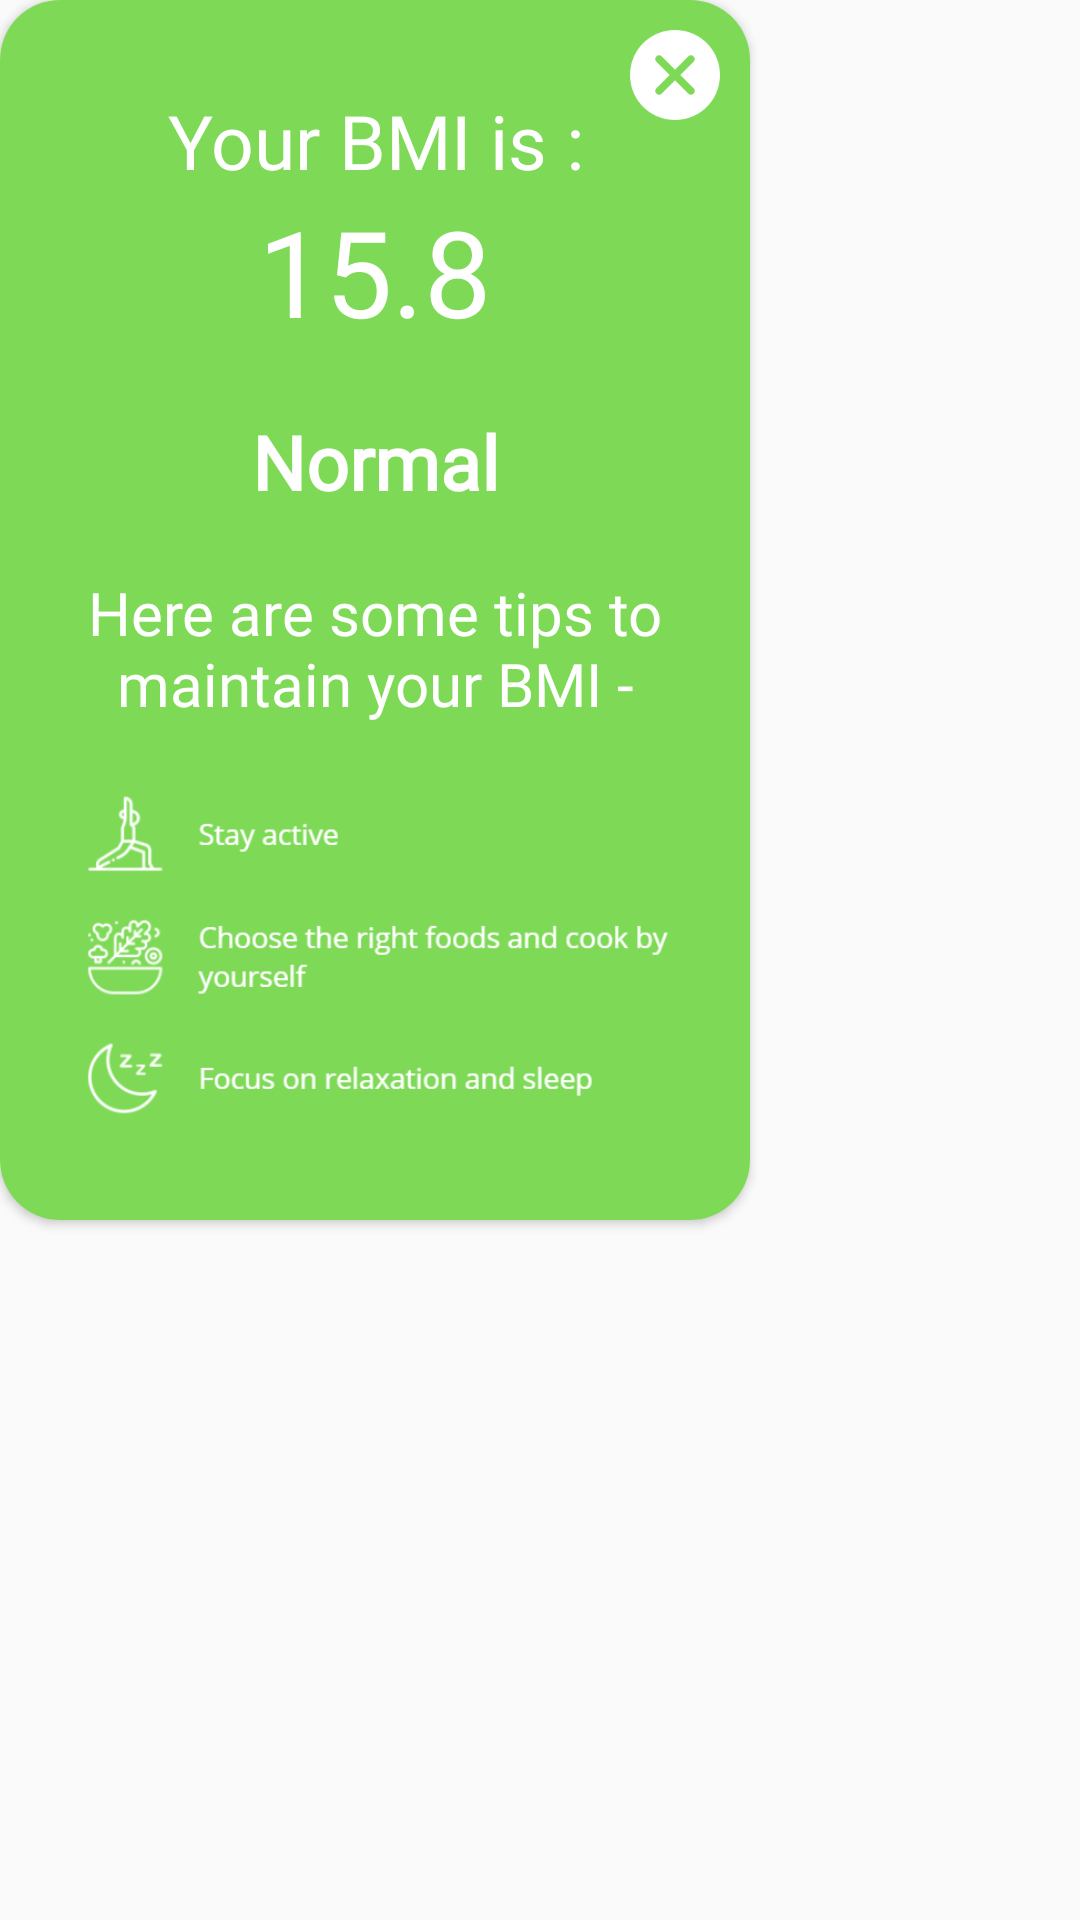

Icon bounding boxes for this 1080w x 1920h phone screenshot, format (x1, y1, x2, y2):
close: (630, 30, 720, 120)
